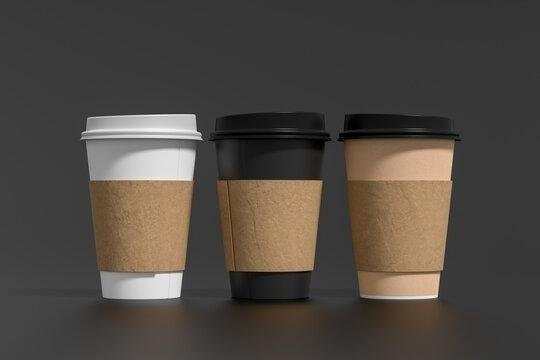cup-disposable: (78, 109, 205, 304), (209, 106, 332, 306), (337, 108, 462, 303)
